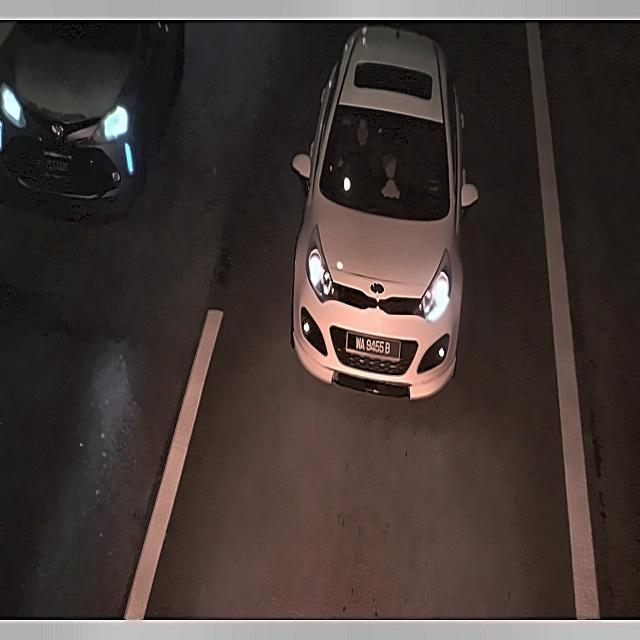car: (11, 153, 83, 181), (346, 331, 400, 362)
